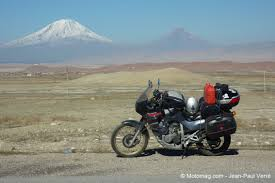moto: (111, 80, 242, 156)
